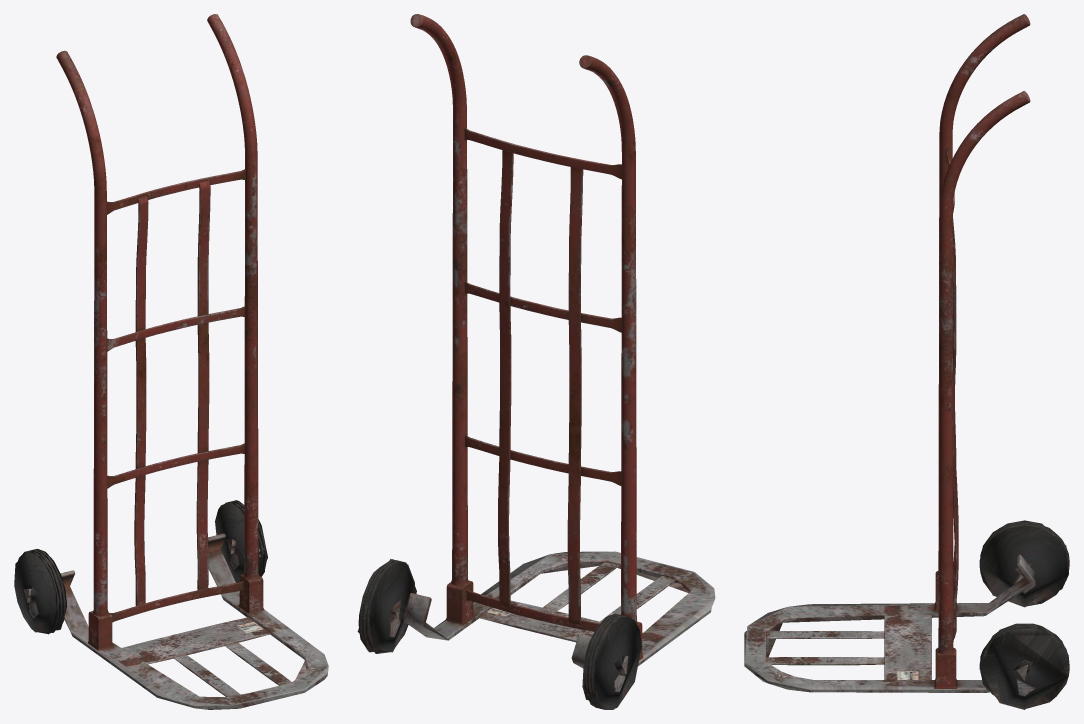
Rendered from hand-truck.ae45b7b8.glb.
3 views of the same model, side by side, from view 1: azimuth 30°, elevation 25°; view 2: azimuth 150°, elevation 25°; view 3: azimuth 270°, elevation 25° (orthographic). The views are drawn at different scales.
Visible parts, largest first — view 1: model; view 2: model; view 3: model.
Boxes of the visible parts, x1,y1,x2,y2 form: model: (14,14,328,709); model: (357,14,715,709); model: (744,14,1069,709).
Size of the model in its own units: 0.5789 by 1.4 by 0.6877.
Materials: 1 (1 with a texture image).
